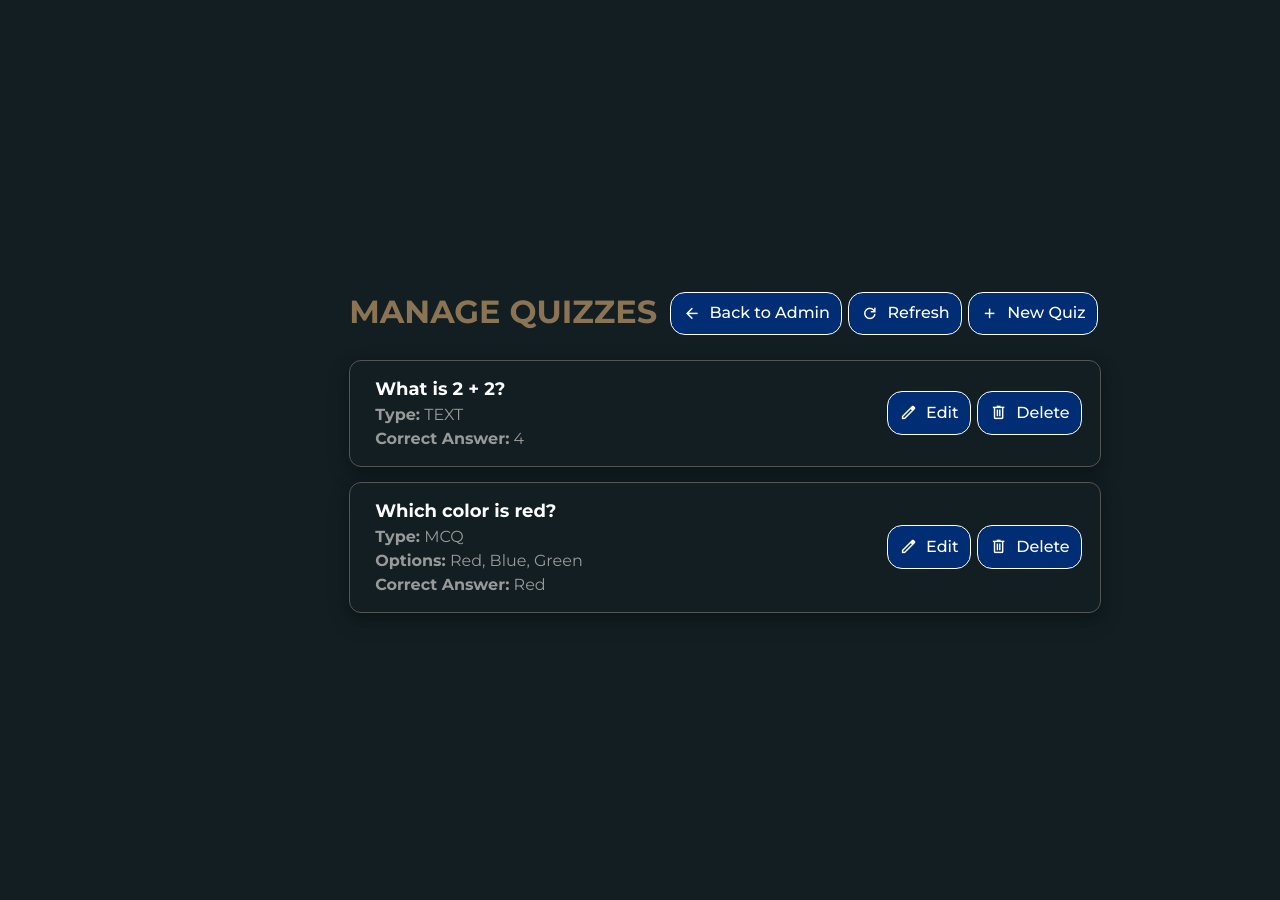
it: ManageQuizzes Component › opens edit form when clicking edit button
Expected: the heading "What is 2 + 2?" is shown, [375,378,505,400]
Click the text "Edit" in the row of "TEXT".
click(942, 413)  # box [926,405,959,421]
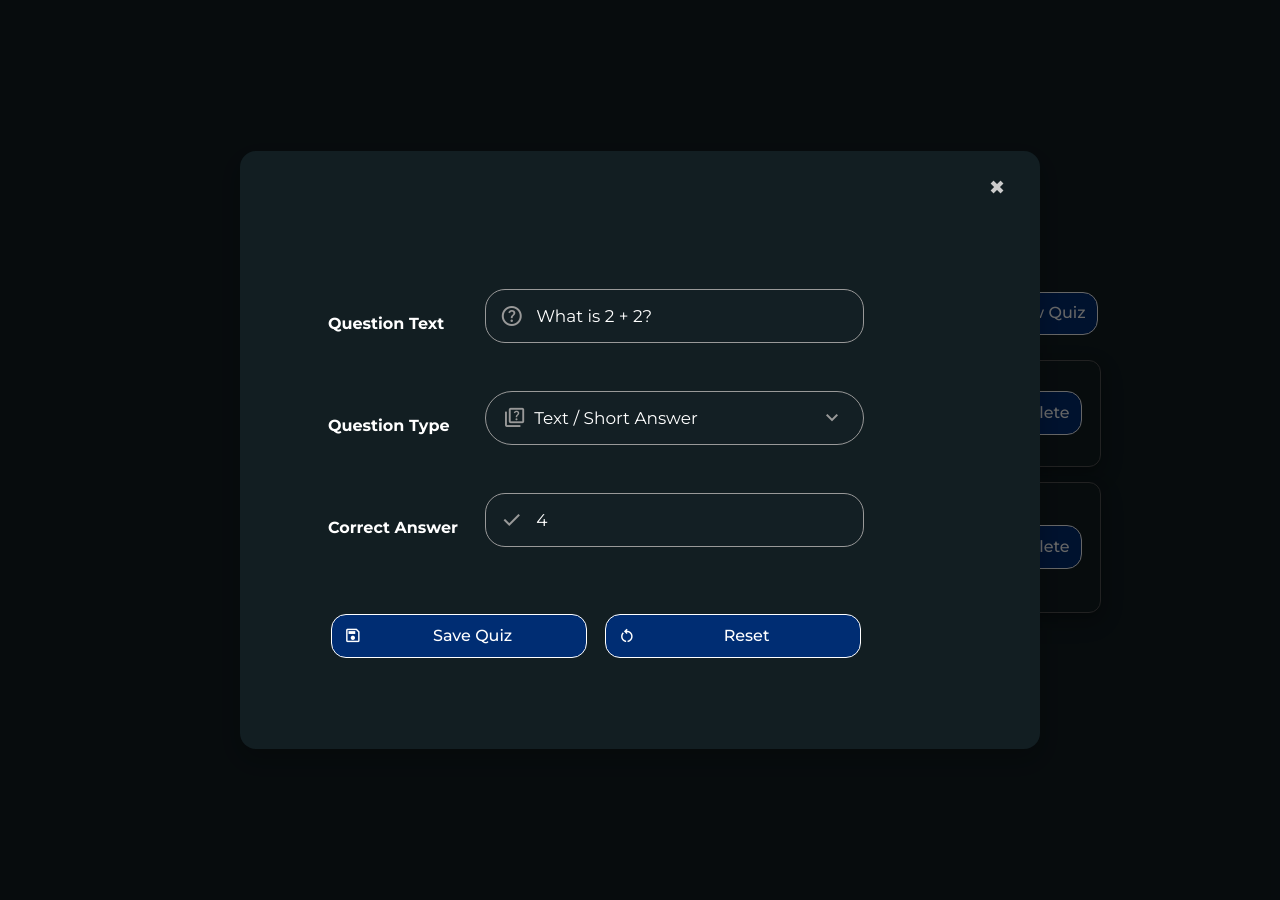
Expected: the field showing "What is 2 + 2?" is shown, [485,289,864,343]
Expected: the field showing "4" is shown, [485,493,864,547]
Expected: the text "Save Quiz" is shown, [433,626,512,645]
